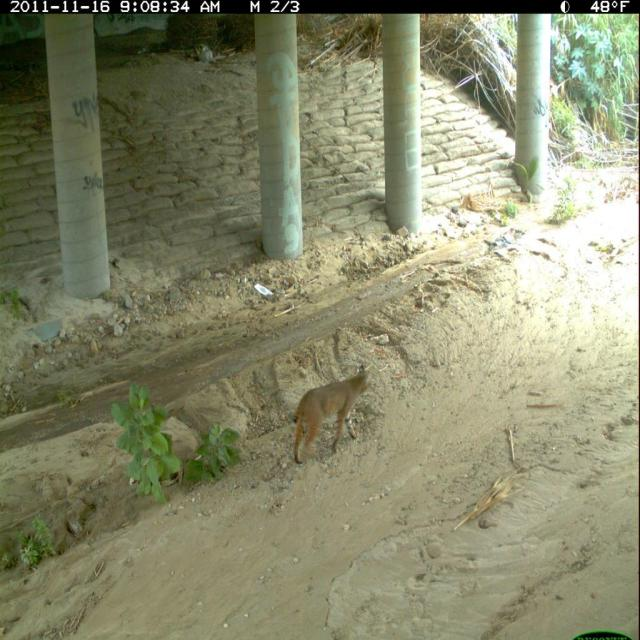bobcat: (291, 359, 379, 471)
